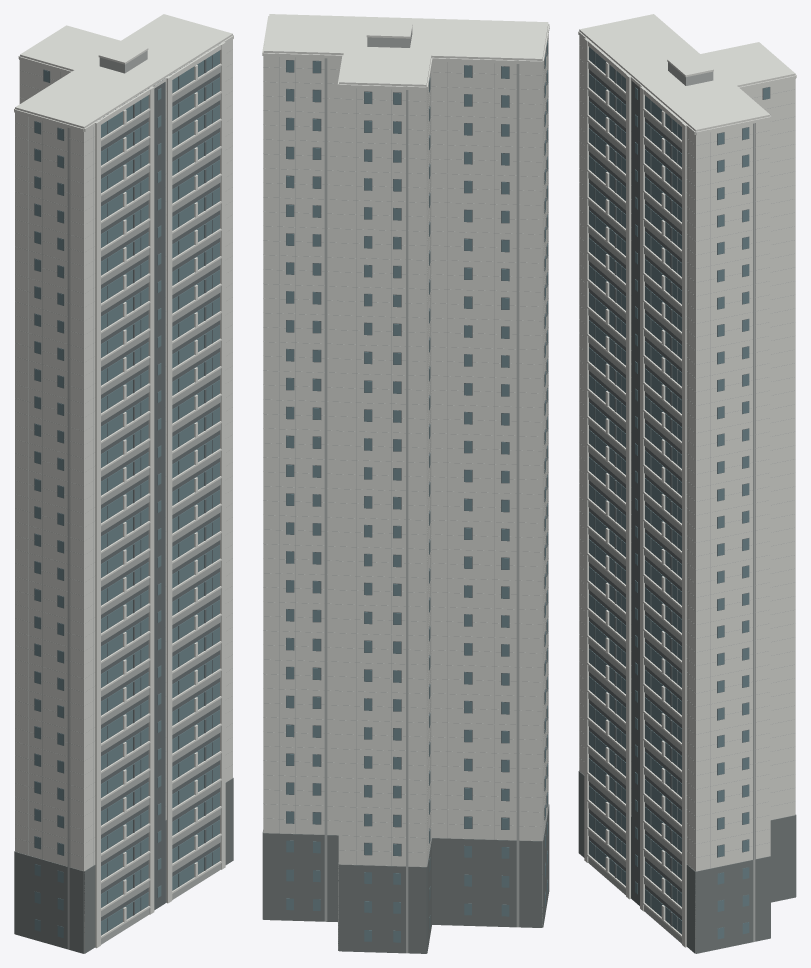
Rendered from bespoke-raemian-la-classy-102.glb.
The picture shows the model from 3 angles, left to right: view 1: azimuth 30°, elevation 25°; view 2: azimuth 150°, elevation 25°; view 3: azimuth 270°, elevation 25°; orthographic projection. The views are drawn at different scales.
Visible parts, largest first — view 1: LaClassy102_editable_LaClassy102_broad_white_facade_frames00, LaClassy102_editable_LaClassy102_turquoise_balcony_glazing00, LaClassy102_editable_LaClassy102_deep_charcoal_vertical_wind, LaClassy102_editable_LaClassy102_light_grey_solid_wall004, LaClassy102_editable_LaClassy102_muted_ground_wall004; view 2: LaClassy102_editable_LaClassy102_broad_white_facade_frames00, LaClassy102_editable_LaClassy102_light_grey_solid_wall004, LaClassy102_editable_LaClassy102_muted_ground_wall004, LaClassy102_editable_LaClassy102_turquoise_balcony_glazing00, LaClassy102_editable_LaClassy102_deep_charcoal_vertical_wind; view 3: LaClassy102_editable_LaClassy102_broad_white_facade_frames00, LaClassy102_editable_LaClassy102_turquoise_balcony_glazing00, LaClassy102_editable_LaClassy102_deep_charcoal_vertical_wind, LaClassy102_editable_LaClassy102_light_grey_solid_wall004, LaClassy102_editable_LaClassy102_muted_ground_wall004.
Boxes of the visible parts, <box> form: LaClassy102_editable_LaClassy102_broad_white_facade_frames00: <box>14,14,233,953</box>; LaClassy102_editable_LaClassy102_turquoise_balcony_glazing00: <box>34,50,219,937</box>; LaClassy102_editable_LaClassy102_deep_charcoal_vertical_wind: <box>34,43,220,935</box>; LaClassy102_editable_LaClassy102_light_grey_solid_wall004: <box>15,49,232,949</box>; LaClassy102_editable_LaClassy102_muted_ground_wall004: <box>14,778,233,953</box>; LaClassy102_editable_LaClassy102_broad_white_facade_frames00: <box>262,14,549,950</box>; LaClassy102_editable_LaClassy102_light_grey_solid_wall004: <box>264,29,548,953</box>; LaClassy102_editable_LaClassy102_muted_ground_wall004: <box>262,804,549,953</box>; LaClassy102_editable_LaClassy102_turquoise_balcony_glazing00: <box>286,41,547,942</box>; LaClassy102_editable_LaClassy102_deep_charcoal_vertical_wind: <box>286,43,547,856</box>; LaClassy102_editable_LaClassy102_broad_white_facade_frames00: <box>578,14,796,953</box>; LaClassy102_editable_LaClassy102_turquoise_balcony_glazing00: <box>589,47,769,939</box>; LaClassy102_editable_LaClassy102_deep_charcoal_vertical_wind: <box>589,52,770,934</box>; LaClassy102_editable_LaClassy102_light_grey_solid_wall004: <box>579,46,794,943</box>; LaClassy102_editable_LaClassy102_muted_ground_wall004: <box>578,771,796,953</box>.
Size of the model in its own units: 27.3 by 90.8 by 21.53.
